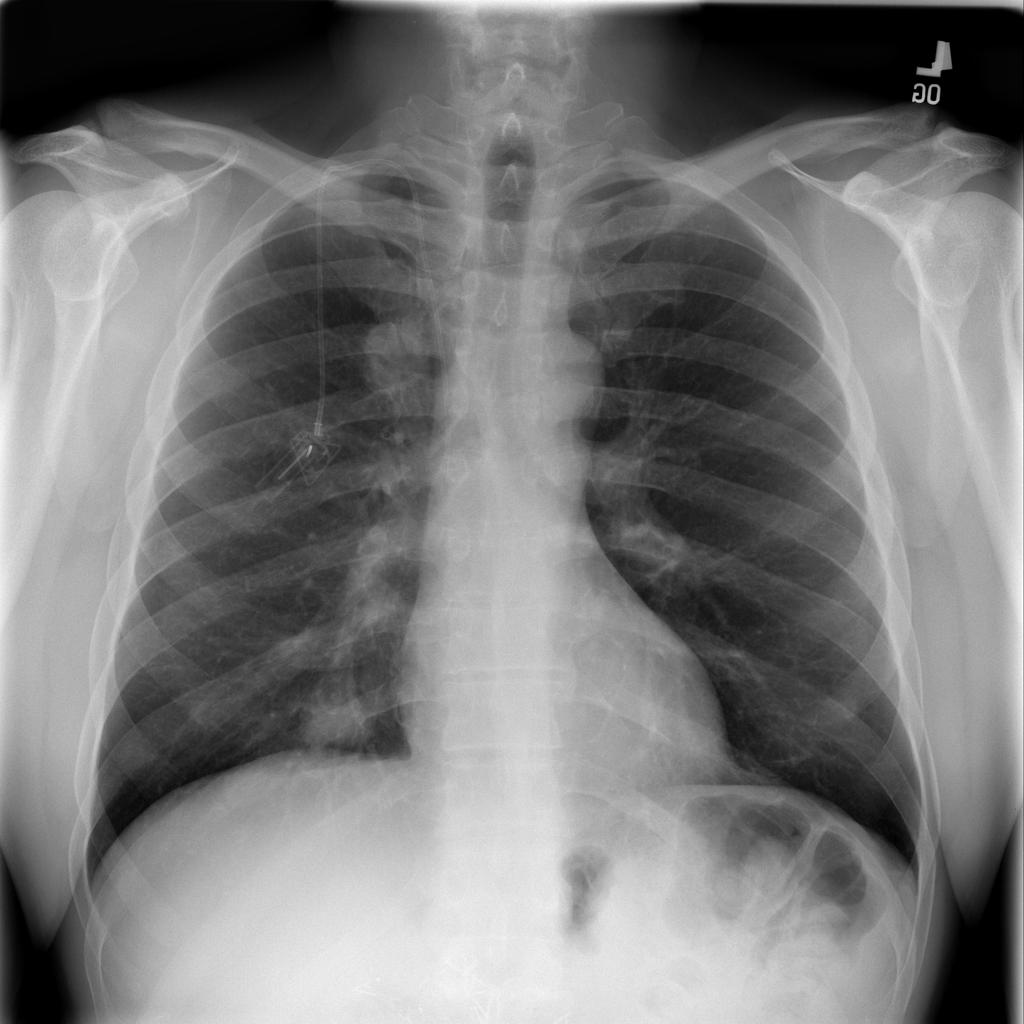nodule: (282, 656, 397, 765), (347, 301, 446, 417), (805, 670, 880, 743)
